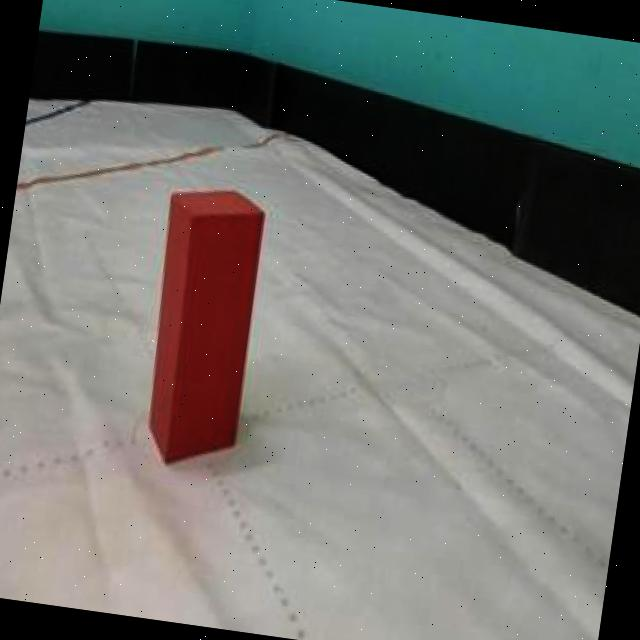redbox: (134, 180, 272, 473)
